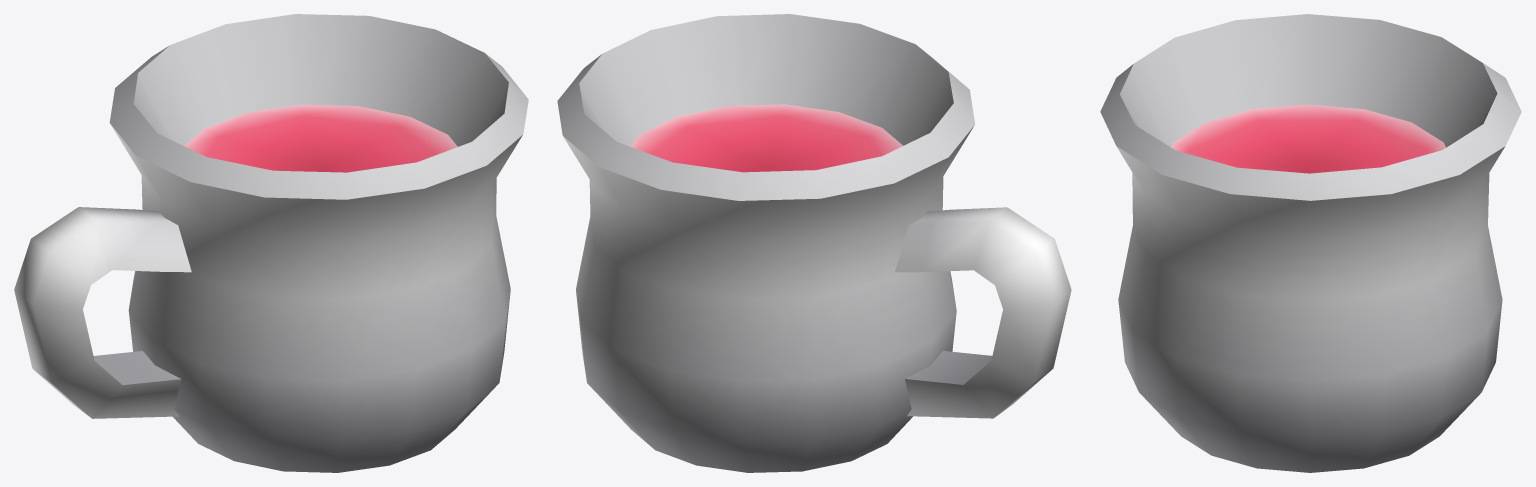
The model's file is m_FancyTea07.fbx.
3 renders of one model, left to right at view 1: azimuth 30°, elevation 25°; view 2: azimuth 150°, elevation 25°; view 3: azimuth 270°, elevation 25°, orthographic.
Parts seen in each view (by area): view 1: m_FancyTea07; view 2: m_FancyTea07; view 3: m_FancyTea07.
Part boxes in pixels (<box>): m_FancyTea07: <box>14,14,528,472</box>; m_FancyTea07: <box>557,14,1071,472</box>; m_FancyTea07: <box>1100,14,1521,472</box>.
Size of the model in its own units: 12.19 by 7.81 by 9.32.
